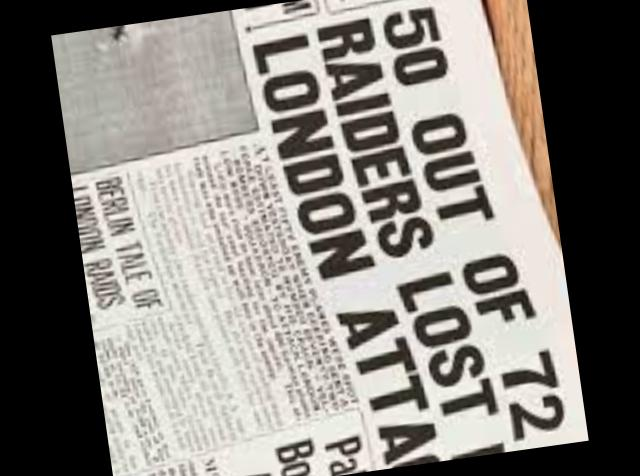cardboard paper: (70, 0, 589, 476)
